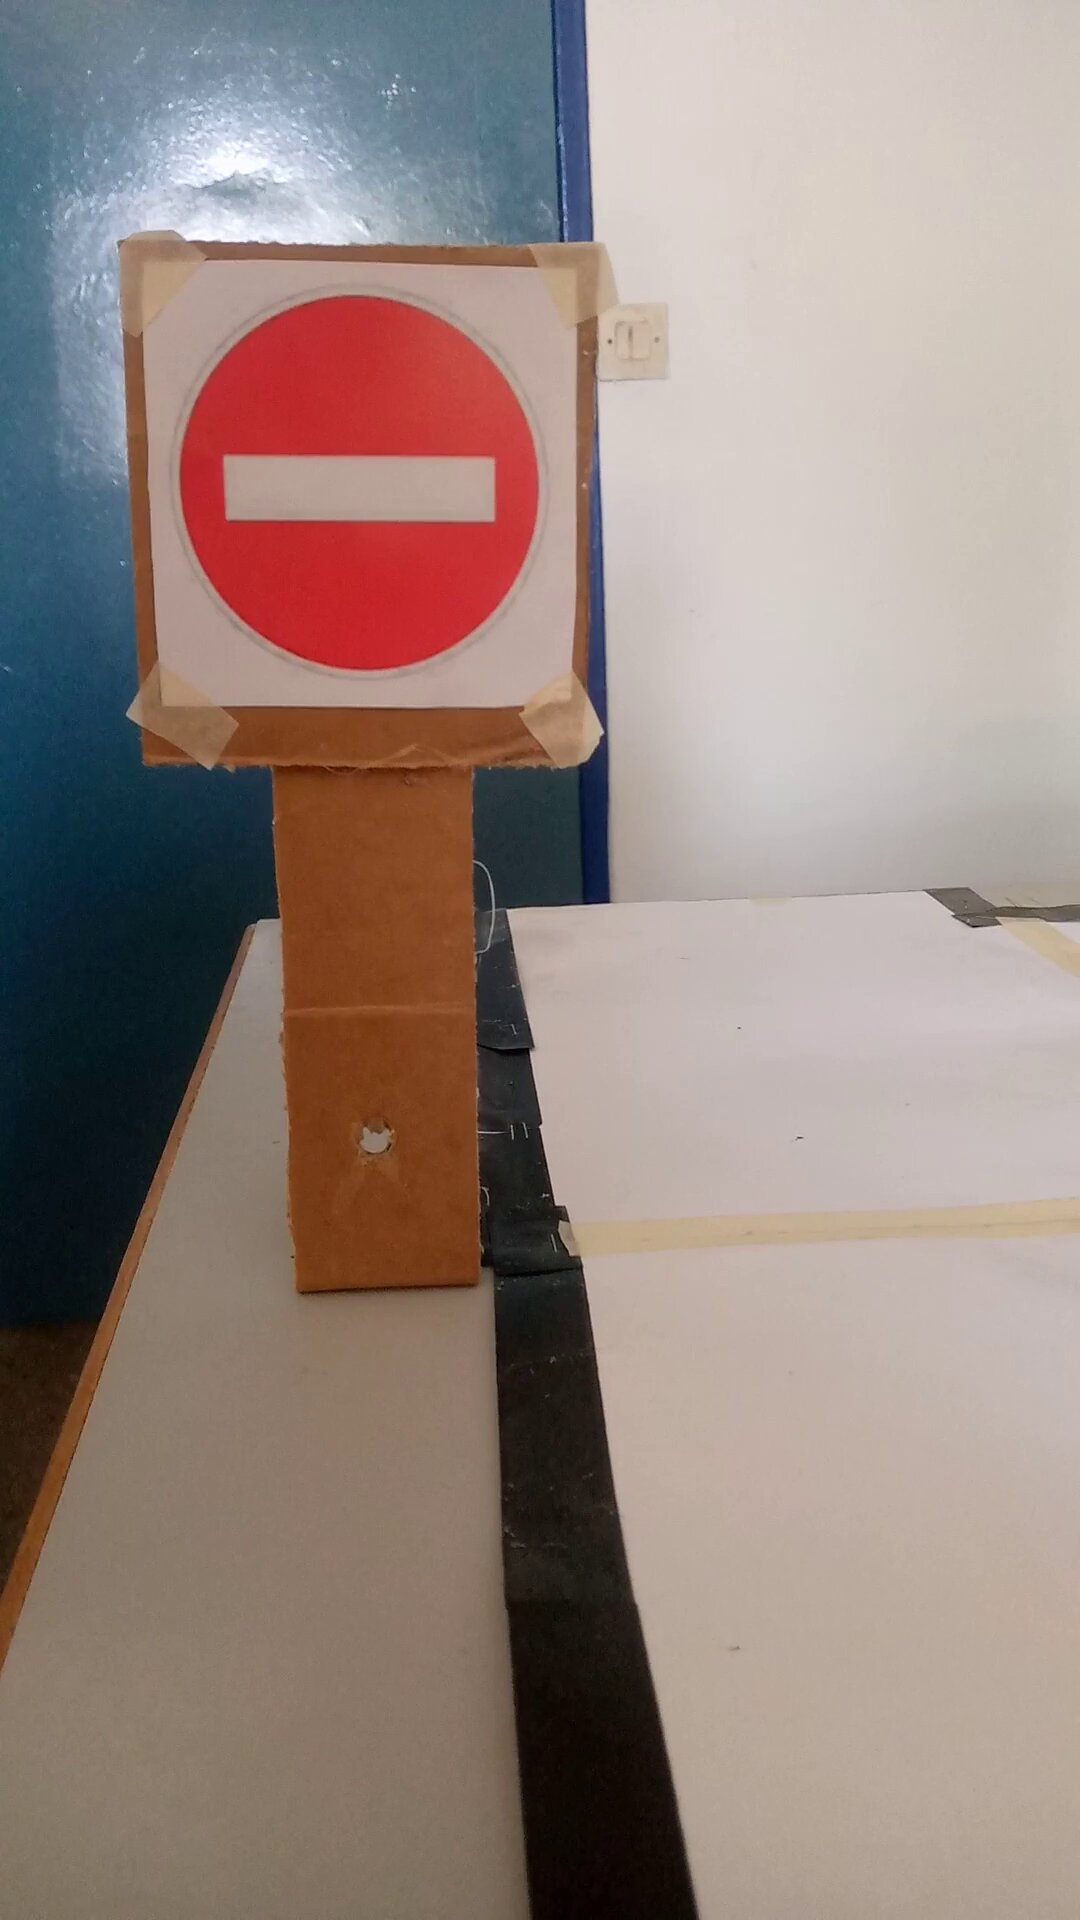panel010: (124, 249, 587, 735)
